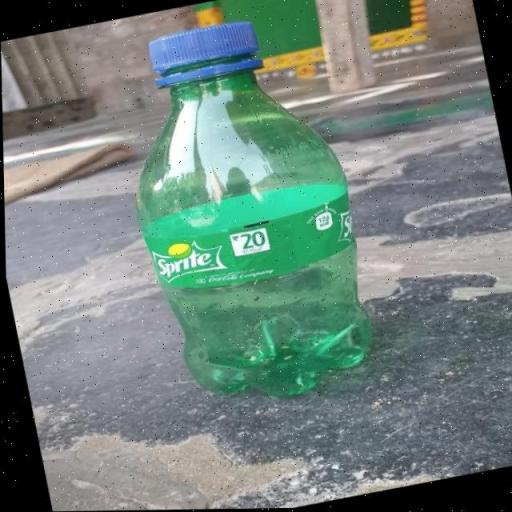plastic: (98, 2, 386, 426)
